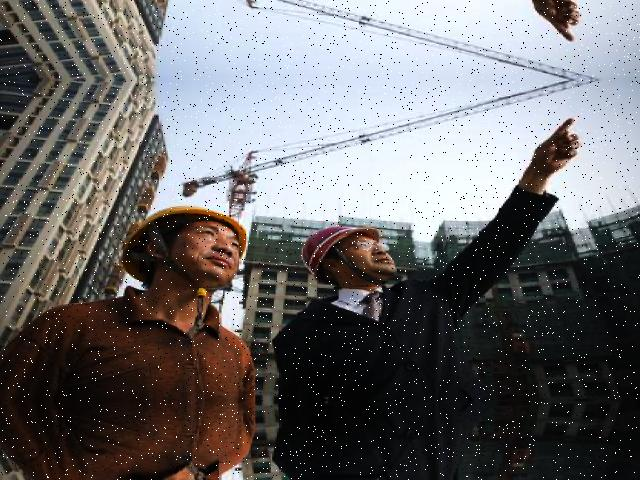Helmet: (118, 204, 251, 286), (296, 219, 388, 281)
